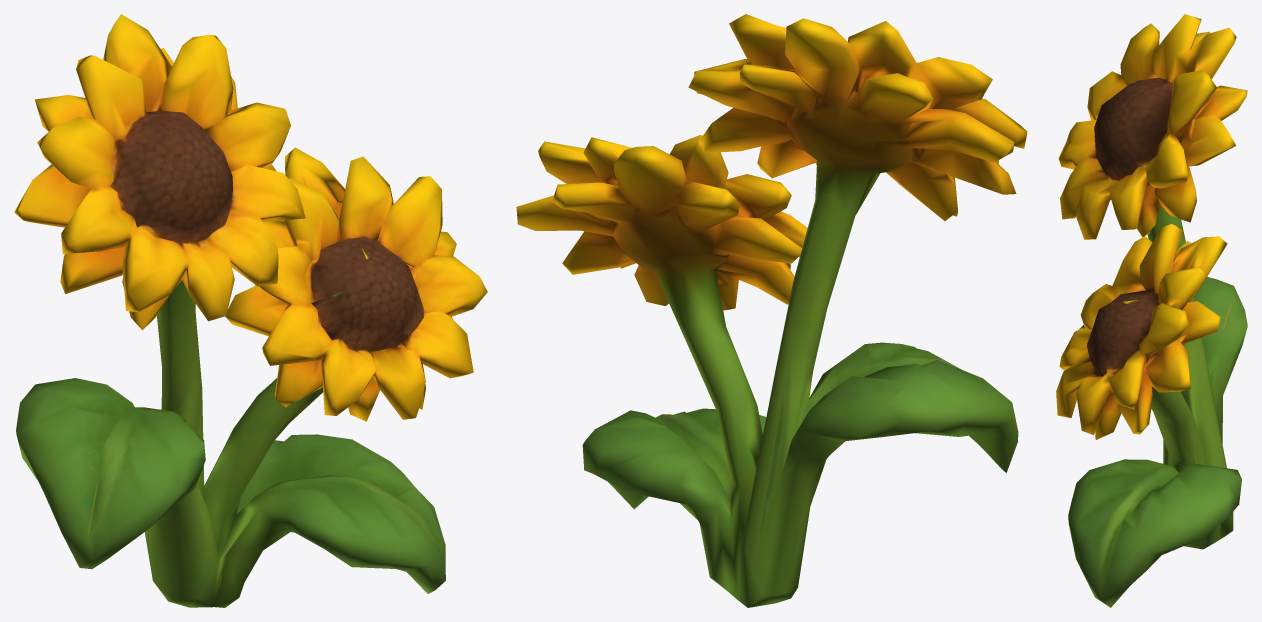
The model's file is crop-sunflower.glb.
The picture shows the model from 3 angles, left to right: view 1: azimuth 30°, elevation 25°; view 2: azimuth 150°, elevation 25°; view 3: azimuth 270°, elevation 25°; orthographic projection. The views are drawn at different scales.
Parts seen in each view (by area): view 1: tripo_node_932b0ec2-8f4b-461a-97ad-098bb51a5fa6; view 2: tripo_node_932b0ec2-8f4b-461a-97ad-098bb51a5fa6; view 3: tripo_node_932b0ec2-8f4b-461a-97ad-098bb51a5fa6.
Part boxes in pixels (x1=…): tripo_node_932b0ec2-8f4b-461a-97ad-098bb51a5fa6: x1=14, y1=14, x2=487, y2=607; tripo_node_932b0ec2-8f4b-461a-97ad-098bb51a5fa6: x1=516, y1=14, x2=1027, y2=607; tripo_node_932b0ec2-8f4b-461a-97ad-098bb51a5fa6: x1=1056, y1=14, x2=1247, y2=607.
Size of the model in its own units: 0.8202 by 1 by 0.3582.
Materials: 1 (1 with a texture image).
